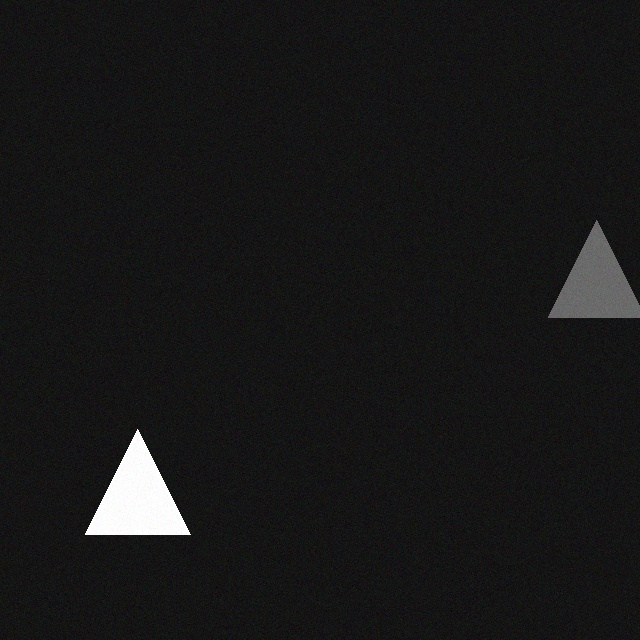triangle: (76, 431, 181, 536), (539, 222, 636, 319)
